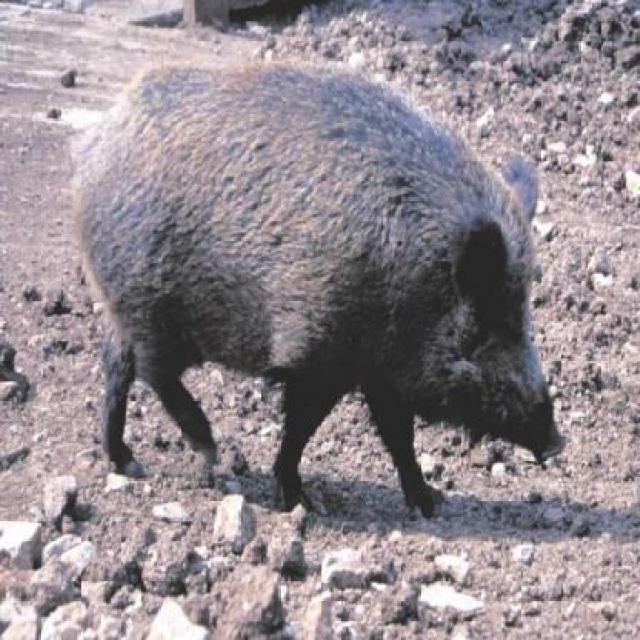pig: (40, 17, 567, 561)
